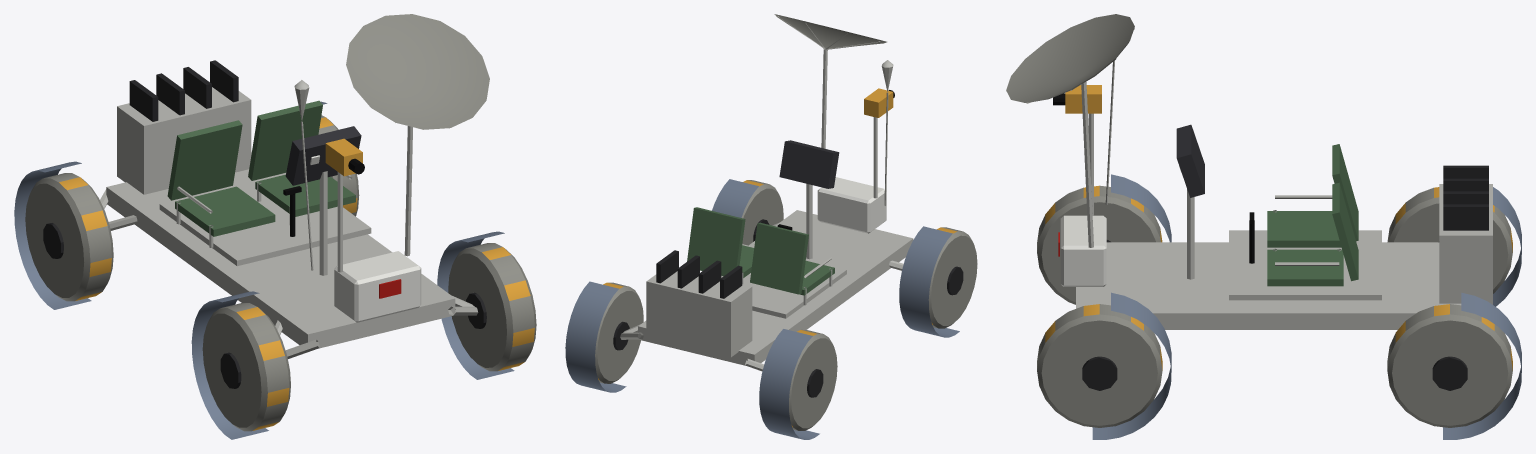
Rendered from lunar_rover.glb.
The picture shows the model from 3 angles, left to right: view 1: azimuth 30°, elevation 25°; view 2: azimuth 150°, elevation 25°; view 3: azimuth 270°, elevation 25°; orthographic projection. The views are drawn at different scales.
Visible parts, largest first — view 1: model; view 2: model; view 3: model.
Part boxes in pixels (x1,y1,x2,y2): model: (14, 14, 536, 439); model: (565, 14, 977, 439); model: (1006, 14, 1521, 439).
Bounding box in the file's own units: 2.11 × 2.61 × 3.37.
Materials: 1 (1 with a texture image).
